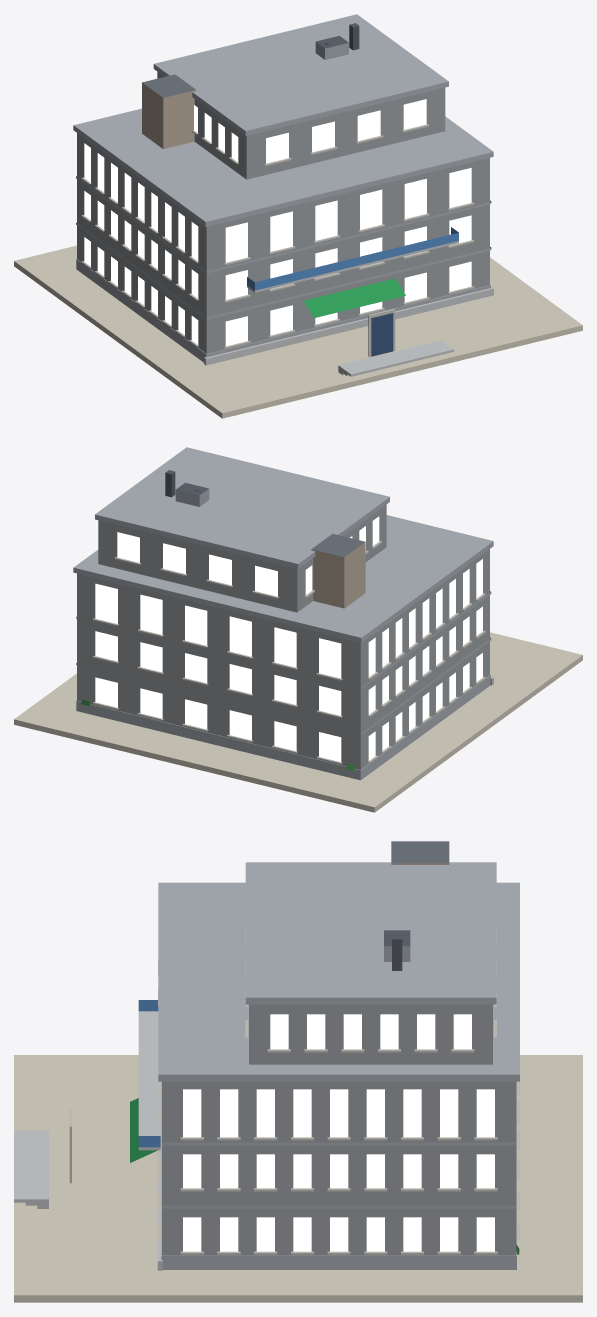
The picture shows the model from 3 angles, top to bottom: view 1: azimuth 30°, elevation 25°; view 2: azimuth 150°, elevation 25°; view 3: azimuth 270°, elevation 25°; orthographic projection. The views are drawn at different scales.
Visible parts, largest first — view 1: b05_x2; view 2: b05_x2; view 3: b05_x2.
Boxes of the visible parts, x1,y1,x2,y2 form: b05_x2: [14, 14, 582, 418]; b05_x2: [14, 447, 582, 812]; b05_x2: [14, 841, 582, 1302].
Bounding box in the file's own units: 1.96 × 1.16 × 1.96.
